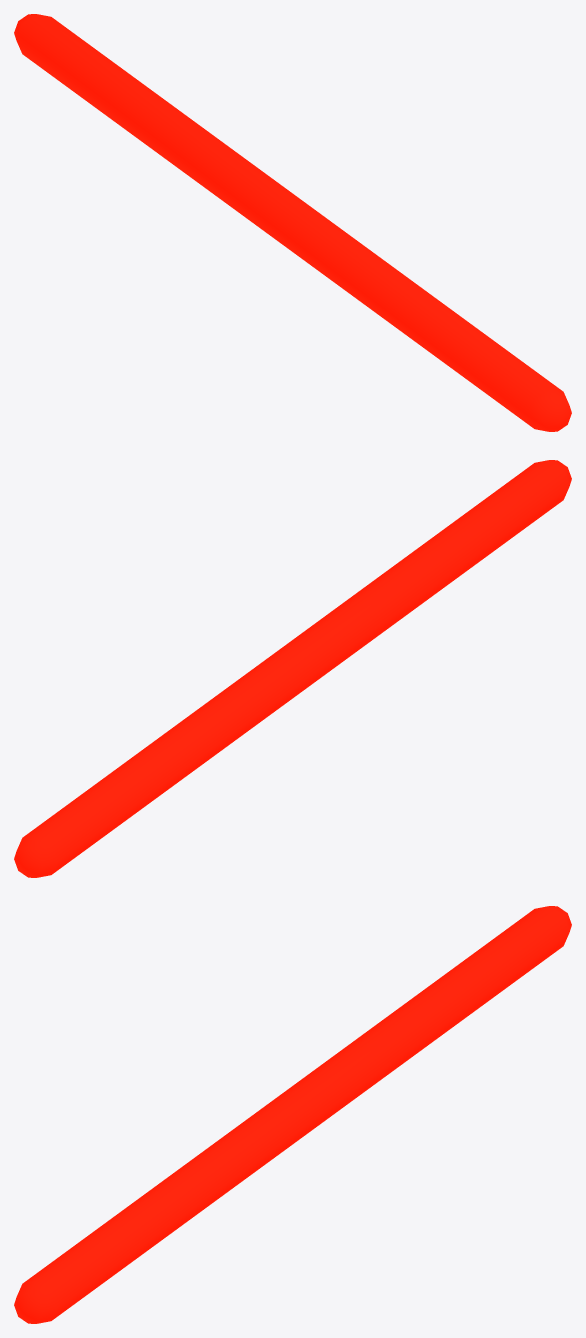
The model's file is Mdl.ThinLaser.fbx.
3 views of the same model, one above another, from view 1: azimuth 30°, elevation 25°; view 2: azimuth 150°, elevation 25°; view 3: azimuth 330°, elevation 25° (orthographic).
Parts seen in each view (by area): view 1: Mesh.ThinLaser; view 2: Mesh.ThinLaser; view 3: Mesh.ThinLaser.
Part boxes in pixels (x1,y1,x2,y2): Mesh.ThinLaser: (14,14,571,431); Mesh.ThinLaser: (14,460,571,877); Mesh.ThinLaser: (14,906,571,1323).
Bounding box in the file's own units: 0.0265 × 0.0265 × 0.6002.
